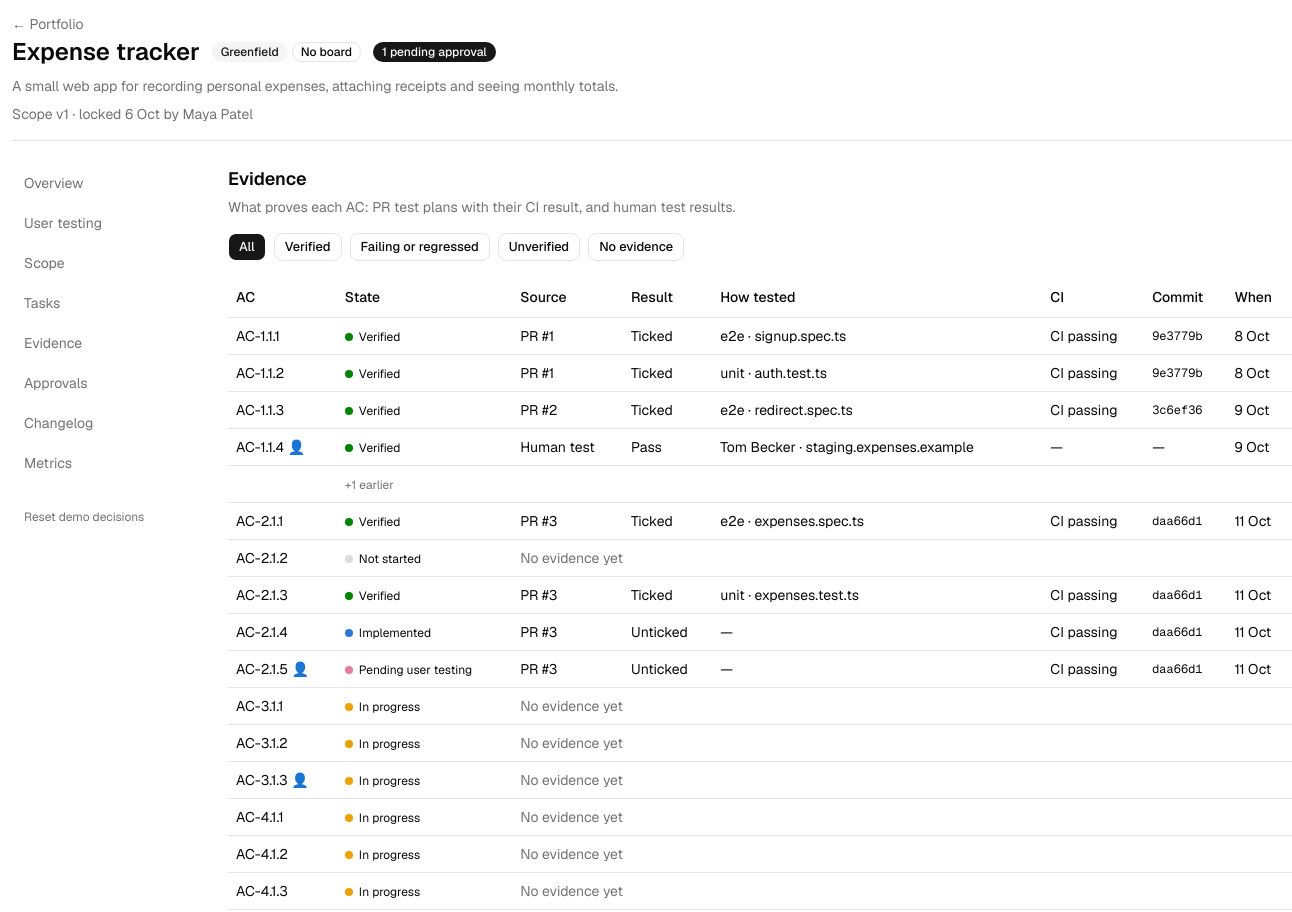
EvidenceView › shows an empty state when the filter matches no ACs
Click the button "Failing or regressed": point(420, 247) [350,233,490,261]
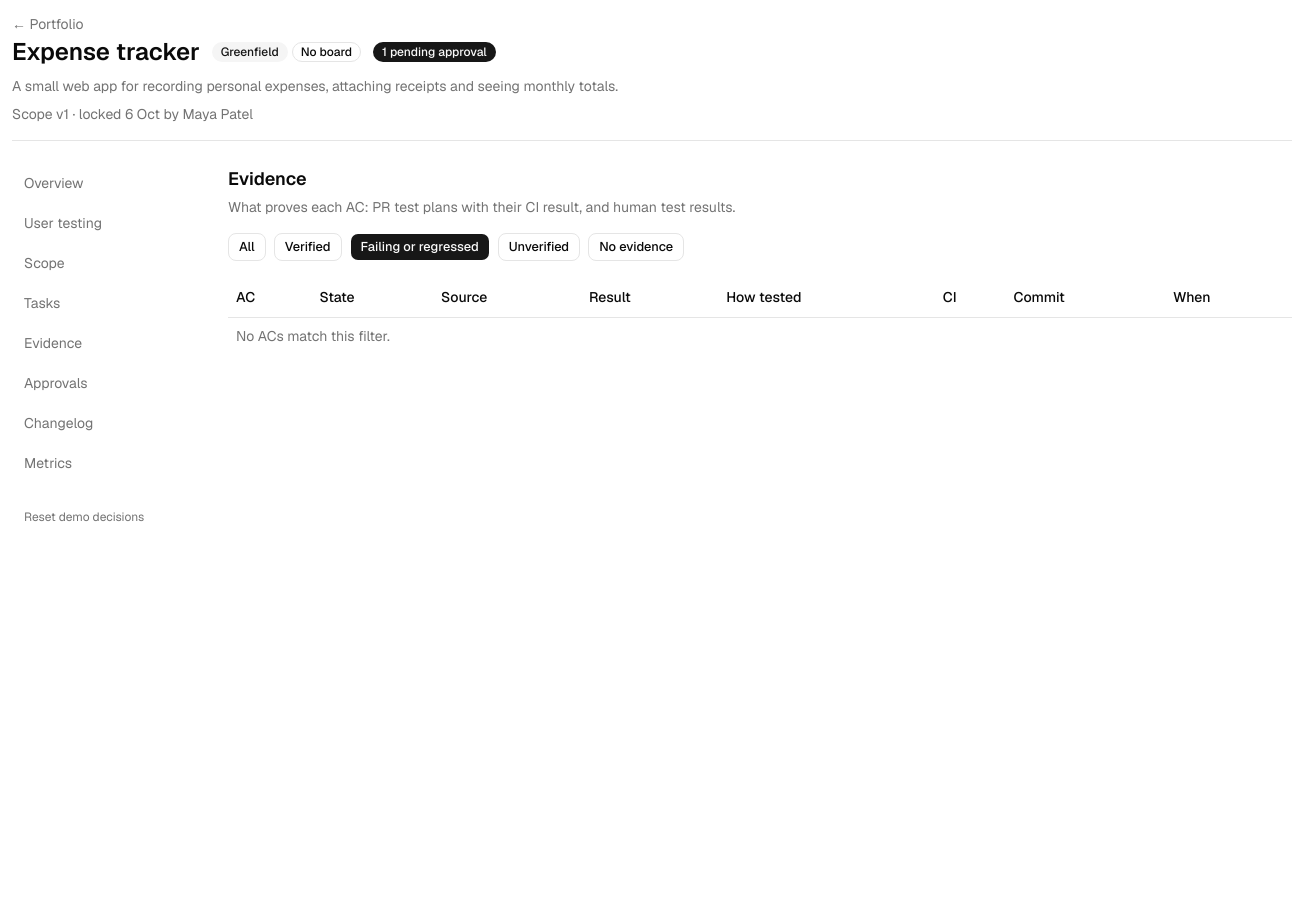
Now the text "AC-" is not shown
Now the text "No ACs match this filter." is shown, box [228,317,1291,354]
